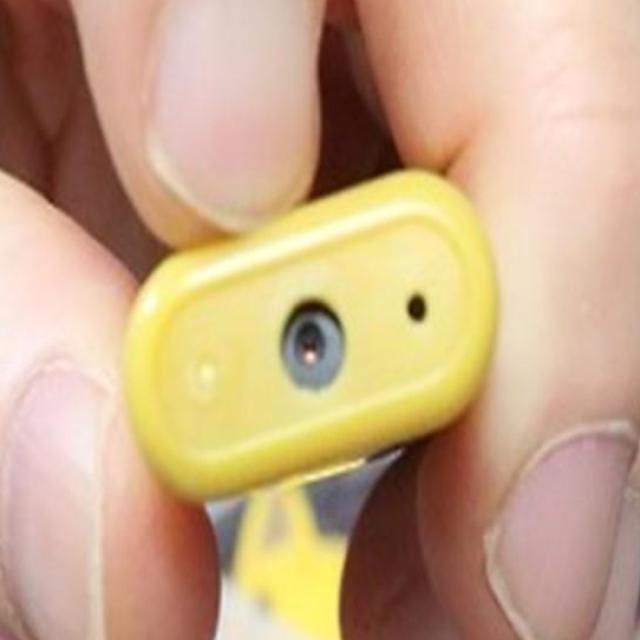hidden camera: (294, 317, 331, 376)
